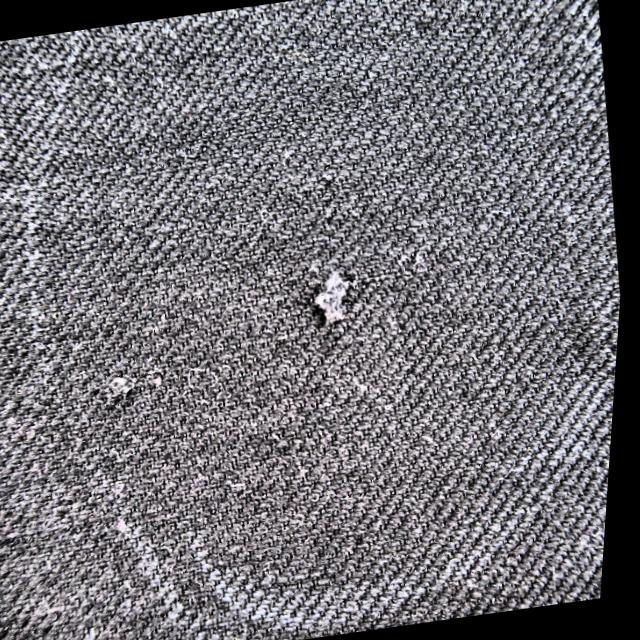Hole: (268, 206, 404, 387)
